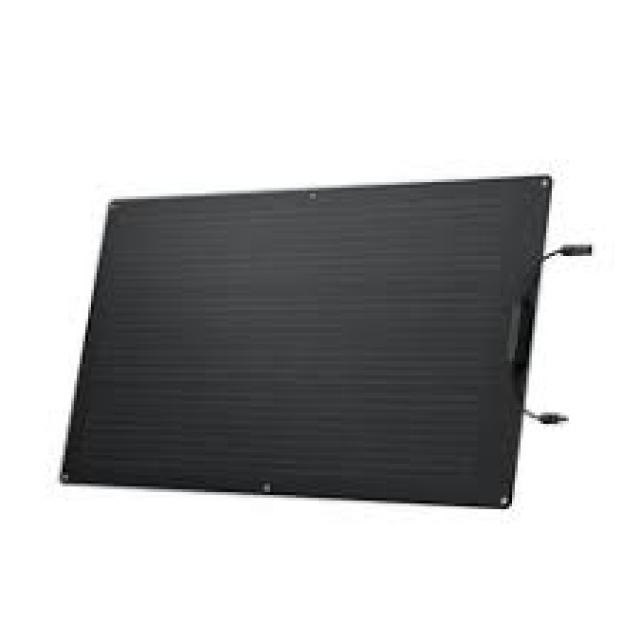no faulty: (73, 188, 534, 491)
